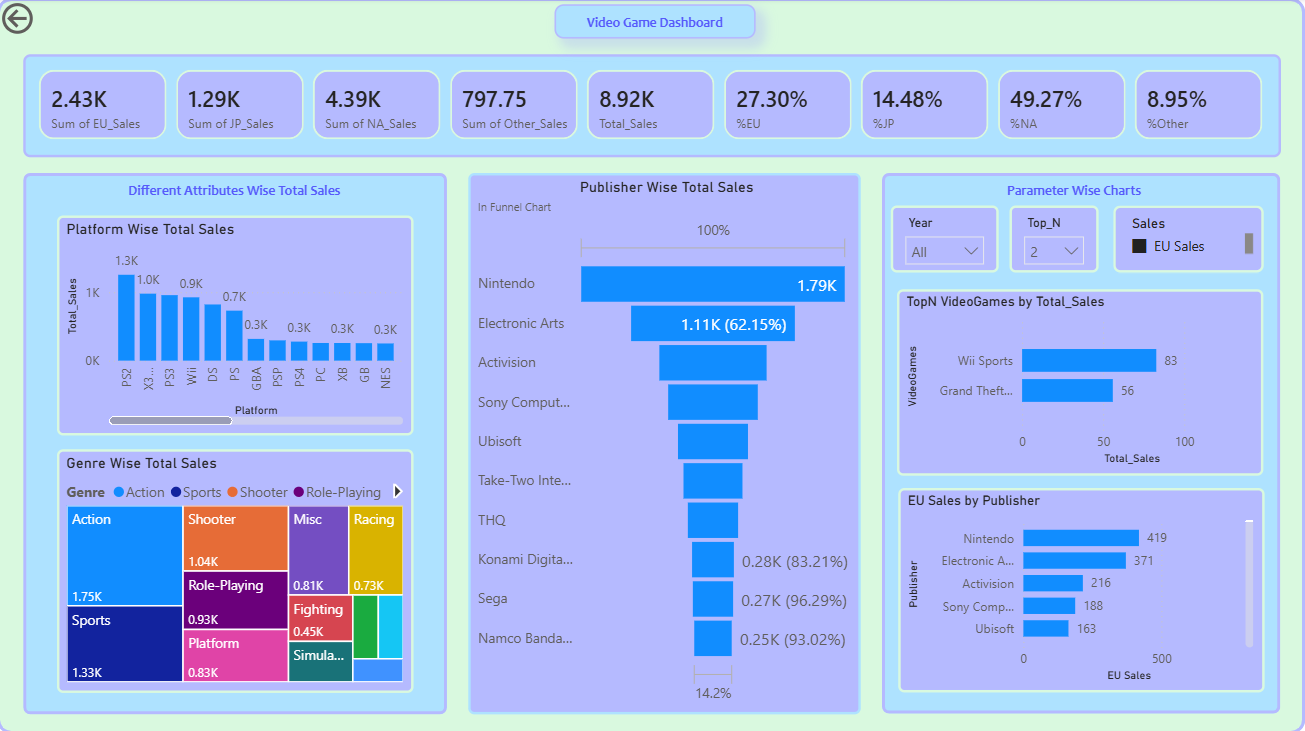

This screenshot's page, from the dashboard's own definition file:
{"tool":"powerbi","page":{"name":"Page 1","canvas":[1280,720],"ordinal":0},"visuals":[{"type":"shape","box":[0,0,1279.7,720],"z":0},{"type":"shape","box":[25.6,171.5,414.5,529.7],"z":1000},{"type":"shape","box":[866,171.5,389.7,528.9],"z":2000},{"type":"cardVisual","fields":{"Data":["Sum(video_game_sales.EU_Sales)","Sum(video_game_sales.JP_Sales)","Sum(video_game_sales.NA_Sales)","Sum(video_game_sales.Other_Sales)","video_game_sales.Total_Sales","video_game_sales.%EU","video_game_sales.%JP","video_game_sales.%NA","video_game_sales.%Other"]},"box":[25.6,54.9,1230.1,100.8],"z":3000},{"type":"columnChart","title":"Platform Wise Total Sales","fields":{"Category":["video_game_sales.Platform"],"Y":["video_game_sales.Total_Sales"]},"box":[58.7,212.2,349.1,215.2],"z":4000},{"type":"treemap","title":"Genre Wise Total Sales","fields":{"Group":["video_game_sales.Genre"],"Values":["video_game_sales.Total_Sales"]},"box":[58.7,440.9,349.1,238.5],"z":5000},{"type":"funnel","title":"Publisher Wise Total Sales","fields":{"Category":["video_game_sales.Publisher"],"Y":["video_game_sales.Total_Sales"]},"box":[461.2,171.5,383.7,529.7],"z":6000},{"type":"slicer","fields":{"Values":["video_game_sales.Year"]},"box":[874.2,202.4,105.3,65.5],"z":7000},{"type":"actionButton","box":[0,0,100,40],"z":8000},{"type":"slicer","fields":{"Values":["Top_N.Top_N"]},"box":[990.1,202.4,87.3,65.5],"z":9000},{"type":"clusteredBarChart","title":"TopN VideoGames by Total_Sales","fields":{"Category":["video_game_sales.Name"],"Y":["All measures.TopN_by_TSales"]},"box":[881,285.1,358.1,182.1],"z":10000},{"type":"slicer","fields":{"Values":["Sales.Sales"]},"box":[1091.7,202.4,147.5,65.5],"z":11000},{"type":"barChart","fields":{"Y":["All measures.EU Sales Total"],"Category":["video_game_sales.Publisher"]},"box":[881.8,479.2,358.1,200.1],"z":12000},{"type":"textbox","box":[545.5,6,197.1,33.9],"z":13000},{"type":"textbox","box":[123.4,173.8,218.9,28.6],"z":14000},{"type":"textbox","box":[983.3,173.8,155,28.6],"z":15000}]}

Visuals, with their boxes in screenshot pixels (x1, y1, x2, y2), scaled from the page's 1280x720 canvas onto the 1305x731 screenshot:
shape: (0,0,1304,730)
shape: (26,174,449,712)
shape: (883,174,1280,711)
cardVisual - Sum(video_game_sales.EU_Sales) x Sum(video_game_sales.JP_Sales): (26,56,1280,158)
"Platform Wise Total Sales" columnChart: (60,215,416,434)
"Genre Wise Total Sales" treemap: (60,448,416,690)
"Publisher Wise Total Sales" funnel: (470,174,861,712)
slicer - video_game_sales.Year: (891,205,999,272)
actionButton: (0,0,102,41)
slicer - Top_N.Top_N: (1009,205,1098,272)
"TopN VideoGames by Total_Sales" clusteredBarChart: (898,289,1263,474)
slicer - Sales.Sales: (1113,205,1263,272)
barChart - All measures.EU Sales Total x video_game_sales.Publisher: (899,487,1264,690)
textbox: (556,6,757,41)
textbox: (126,176,349,205)
textbox: (1003,176,1161,205)
